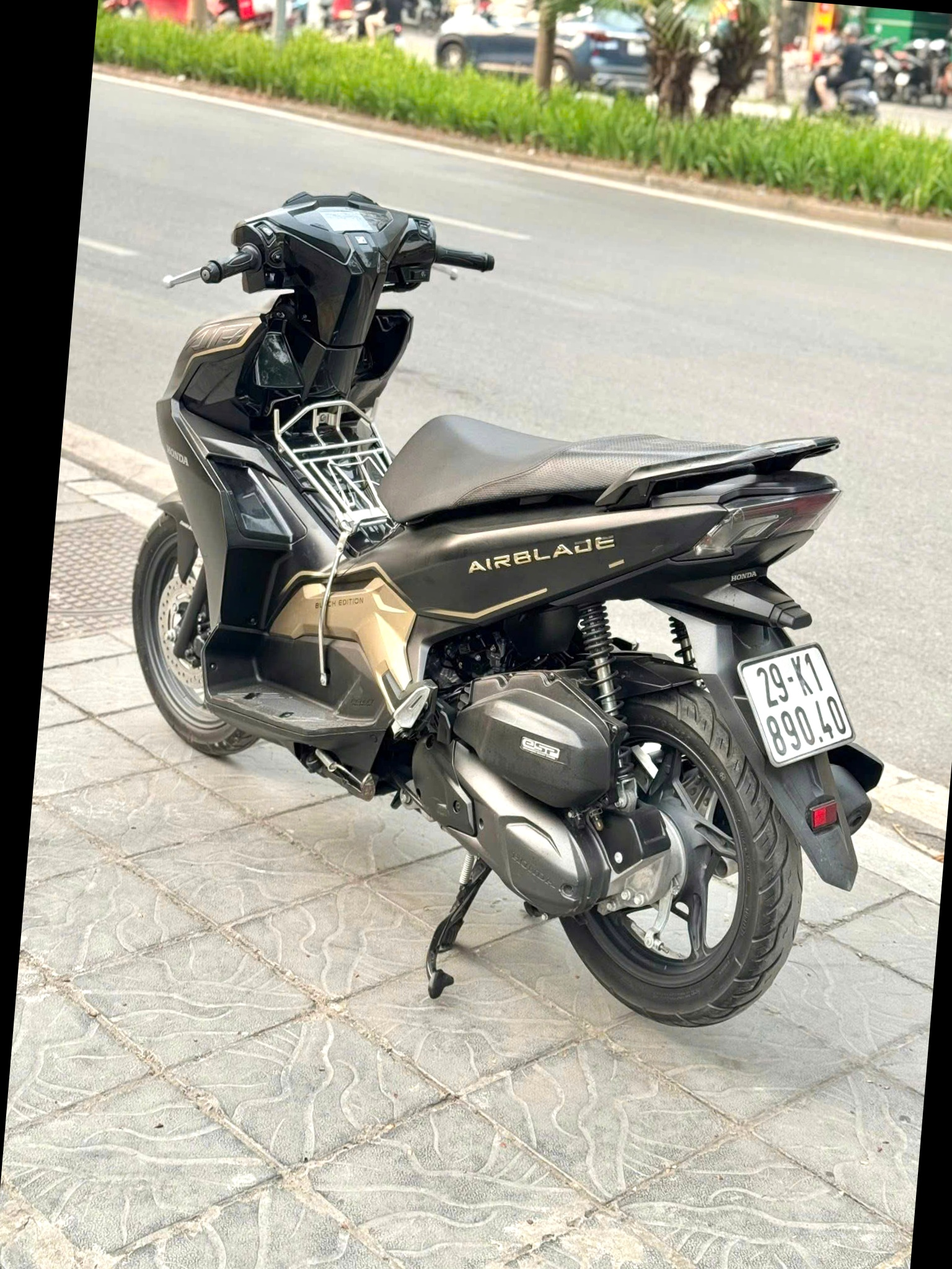Bien-so: (727, 554, 862, 680)
